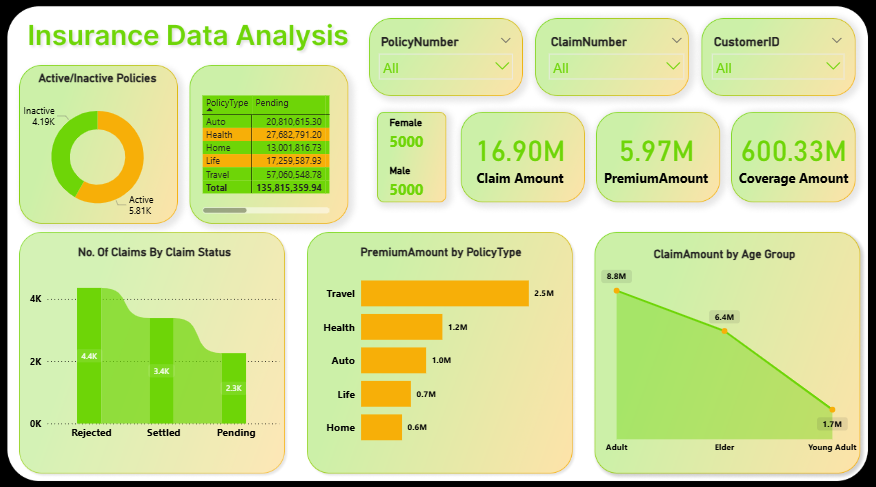

What the dashboard file says about the page in this screenshot:
{"tool":"powerbi","page":{"name":"Page 1","canvas":[1280,720],"ordinal":0},"visuals":[{"type":"slicer","fields":{"Values":["InsuranceData.PolicyNumber"]},"box":[544.9,49.3,214.5,69.6],"z":0},{"type":"slicer","fields":{"Values":["InsuranceData.ClaimNumber"]},"box":[791.3,49.3,215.9,69.6],"z":1000},{"type":"slicer","fields":{"Values":["InsuranceData.CustomerID"]},"box":[1027.5,49.3,211.6,69.6],"z":2000},{"type":"card","fields":{"Values":["Sum(InsuranceData.PremiumAmount)"]},"box":[869.6,171,173.9,118.8],"z":3000},{"type":"card","fields":{"Values":["Sum(InsuranceData.ClaimAmount)"]},"box":[673.9,171,171,118.8],"z":4000},{"type":"card","fields":{"Values":["Sum(InsuranceData.CoverageAmount)"]},"box":[1062.3,171,187,118.8],"z":5000},{"type":"ribbonChart","title":"No. Of  Claims By Claim Status","fields":{"Category":["InsuranceData.ClaimStatus"],"Y":["CountNonNull(InsuranceData.ClaimStatus)"]},"box":[43.5,359.4,372.5,292.8],"z":6000},{"type":"barChart","title":"PremiumAmount by PolicyType","fields":{"Category":["InsuranceData.PolicyType"],"Y":["Sum(InsuranceData.PremiumAmount)"]},"box":[468.1,359.4,353.6,308.7],"z":7000},{"type":"lineChart","title":"ClaimAmount by Age Group","fields":{"Category":["InsuranceData.Age Group"],"Y":["Sum(InsuranceData.ClaimAmount)"]},"box":[831.9,362.3,447.8,308.7],"z":8000},{"type":"donutChart","title":"Active/Inactive Policies","fields":{"Category":["InsuranceData.Active_Inactive"],"Y":["CountNonNull(InsuranceData.Active_Inactive)"]},"box":[33.3,107.2,227.5,230.4],"z":9000},{"type":"pivotTable","fields":{"Values":["Sum(InsuranceData.CoverageAmount)"],"Rows":["InsuranceData.PolicyType"],"Columns":["InsuranceData.ClaimStatus"]},"box":[294.2,137.7,194.2,181.2],"z":10000},{"type":"multiRowCard","fields":{"Values":["InsuranceData.Gender","CountNonNull(InsuranceData.Gender)"]},"box":[565.2,173.9,226.1,144.9],"z":11000}]}

Visuals, with their boxes in screenshot pixels (x1, y1, x2, y2), scaled from the page's 1280x720 canvas onto the 876x487 screenshot:
slicer - InsuranceData.PolicyNumber: BBox(373, 33, 520, 80)
slicer - InsuranceData.ClaimNumber: BBox(542, 33, 689, 80)
slicer - InsuranceData.CustomerID: BBox(703, 33, 848, 80)
card - Sum(InsuranceData.PremiumAmount): BBox(595, 116, 714, 196)
card - Sum(InsuranceData.ClaimAmount): BBox(461, 116, 578, 196)
card - Sum(InsuranceData.CoverageAmount): BBox(727, 116, 855, 196)
"No. Of  Claims By Claim Status" ribbonChart: BBox(30, 243, 285, 441)
"PremiumAmount by PolicyType" barChart: BBox(320, 243, 562, 452)
"ClaimAmount by Age Group" lineChart: BBox(569, 245, 875, 454)
"Active/Inactive Policies" donutChart: BBox(23, 73, 178, 228)
pivotTable - Sum(InsuranceData.CoverageAmount) x InsuranceData.PolicyType: BBox(201, 93, 334, 216)
multiRowCard - InsuranceData.Gender x CountNonNull(InsuranceData.Gender): BBox(387, 118, 542, 216)
